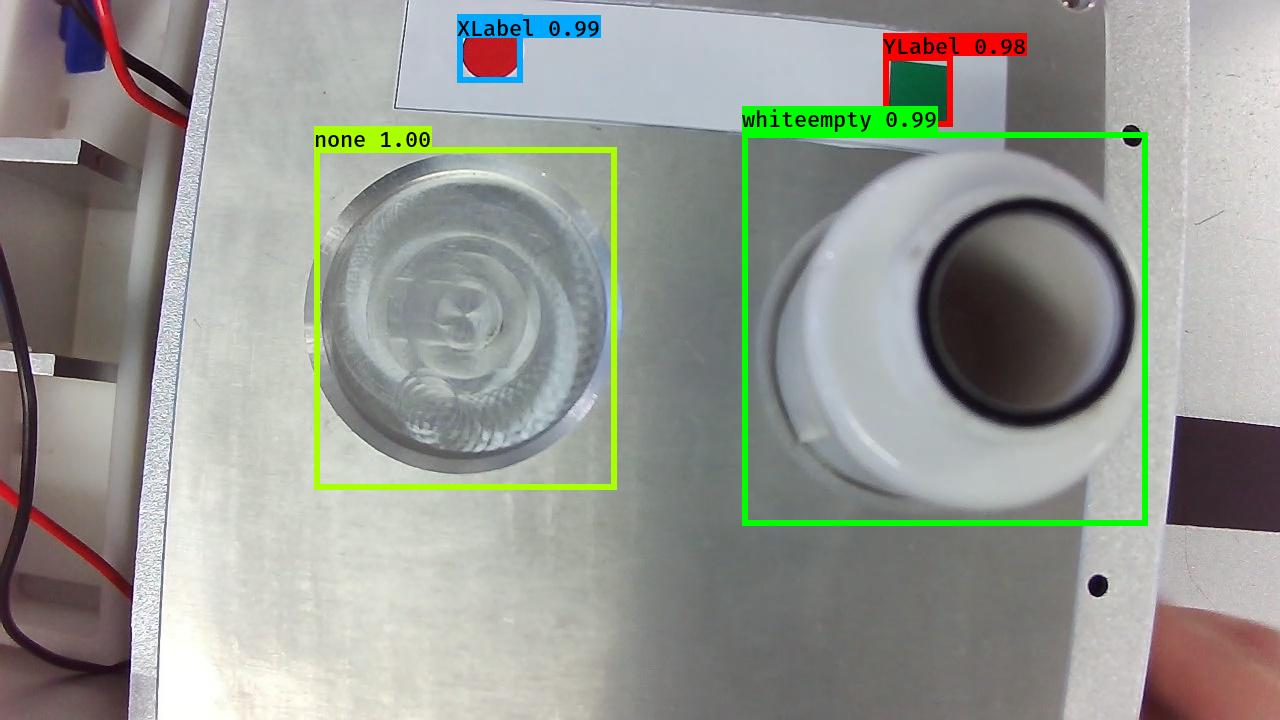XLabel: (459, 20, 524, 83)
YLabel: (886, 56, 952, 129)
none: (297, 151, 622, 473)
whiteempty: (766, 144, 1160, 530)
